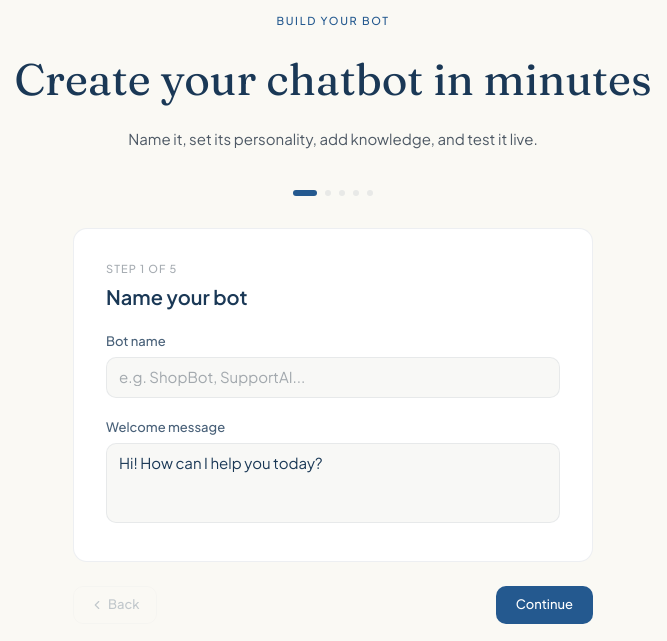
LandingWizard new user signup flow › navigates to step 2 on Continue
This screenshot has width=667, height=641.
Step 1. Type "TestBot" into the field with placeholder "e.g. ShopBot, SupportAI..." → (333, 377), box x1=106 y1=357 x2=560 y2=398
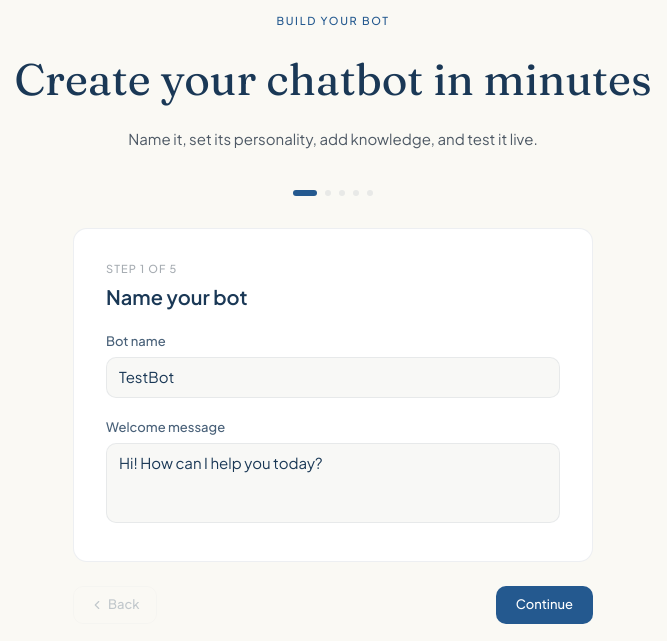
Step 2. Click the button "Continue" → (544, 605), box x1=496 y1=586 x2=593 y2=624
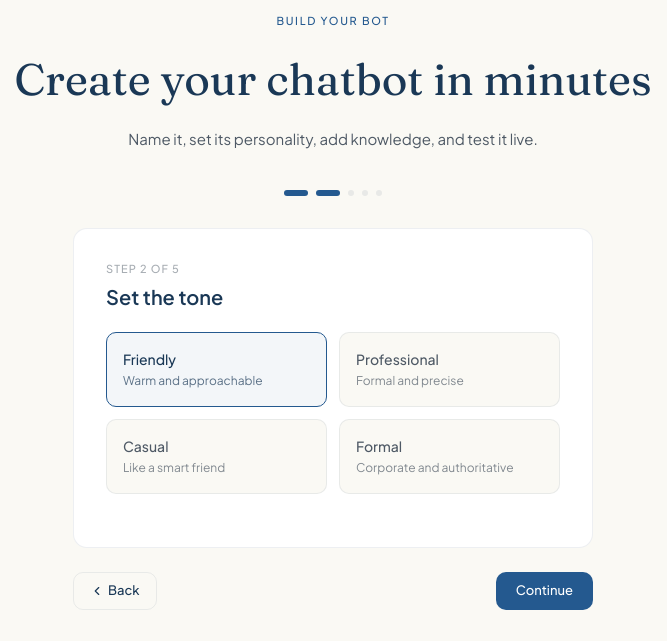
Now the heading "Set the tone" is shown, box x1=106 y1=284 x2=223 y2=308
